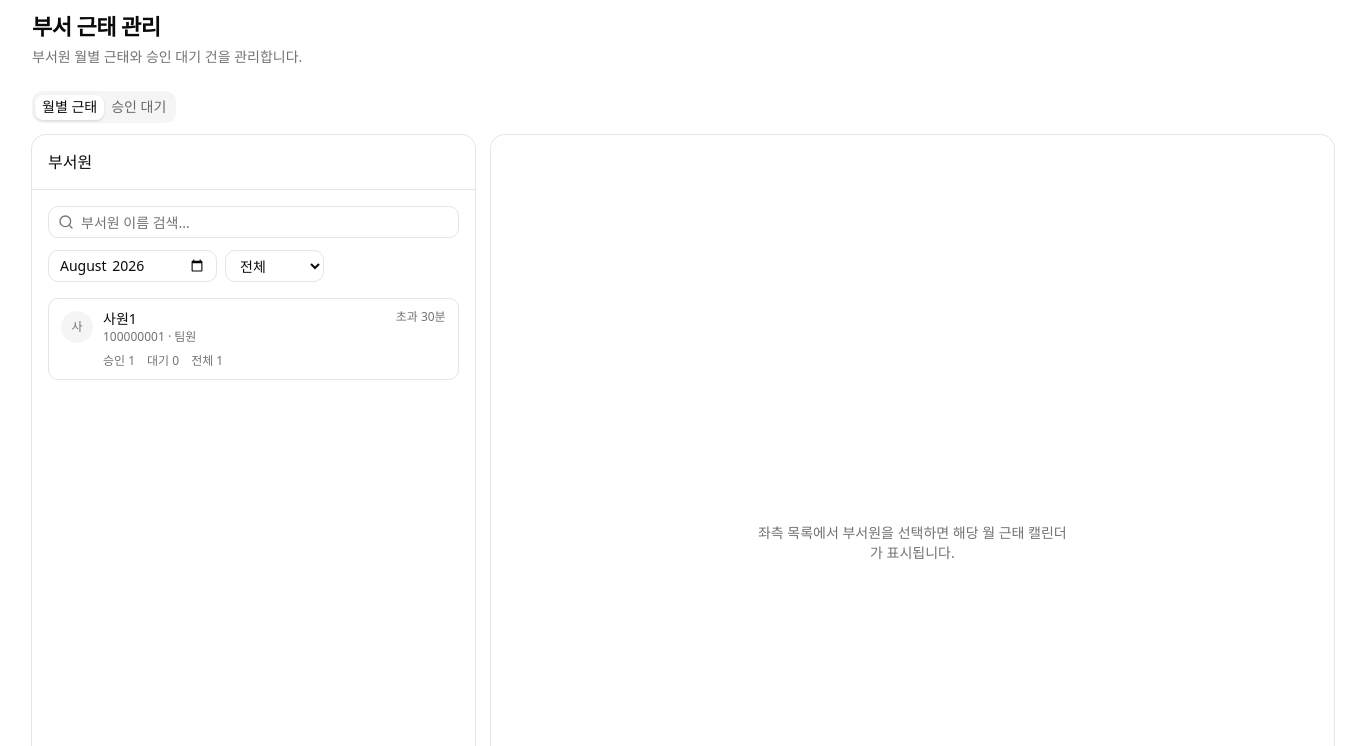
Test case: DeptAttendancePage (F305/F306) - 탭①/탭② 상태 분리(usePageState 별도 인스턴스) › 탭①에서 검색어/페이지를 변경한 뒤 탭②로 전환했다 돌아와도 탭①의 검색어 입력값과 조회 페이지가 유지된다
Check: the text "사원1" is shown, box [103,309,137,328]
Type "홍길동" into the search field labelled "부서원 이름 검색" at (253, 222), box [48,206,459,238]
(page scrolled)
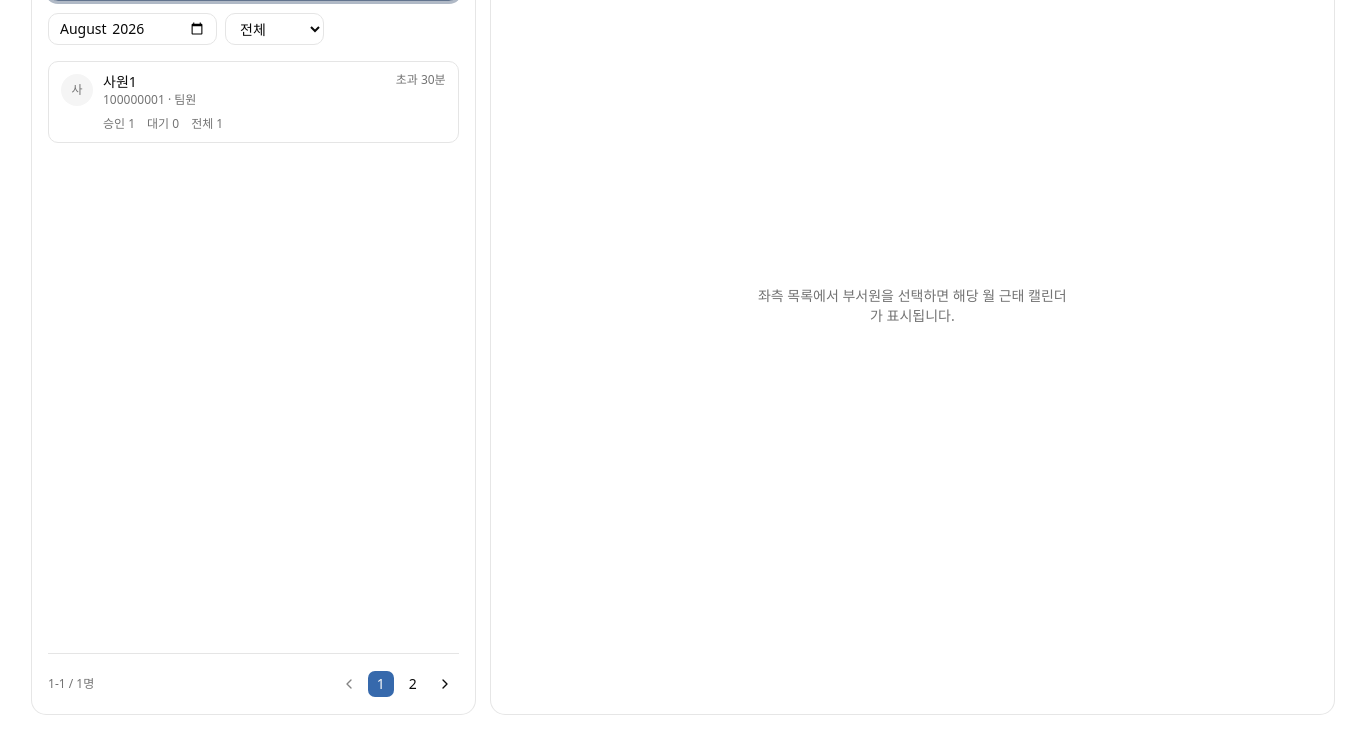
Click the button named "다음 페이지" at (445, 684), box [431,670,459,698]
(page scrolled)
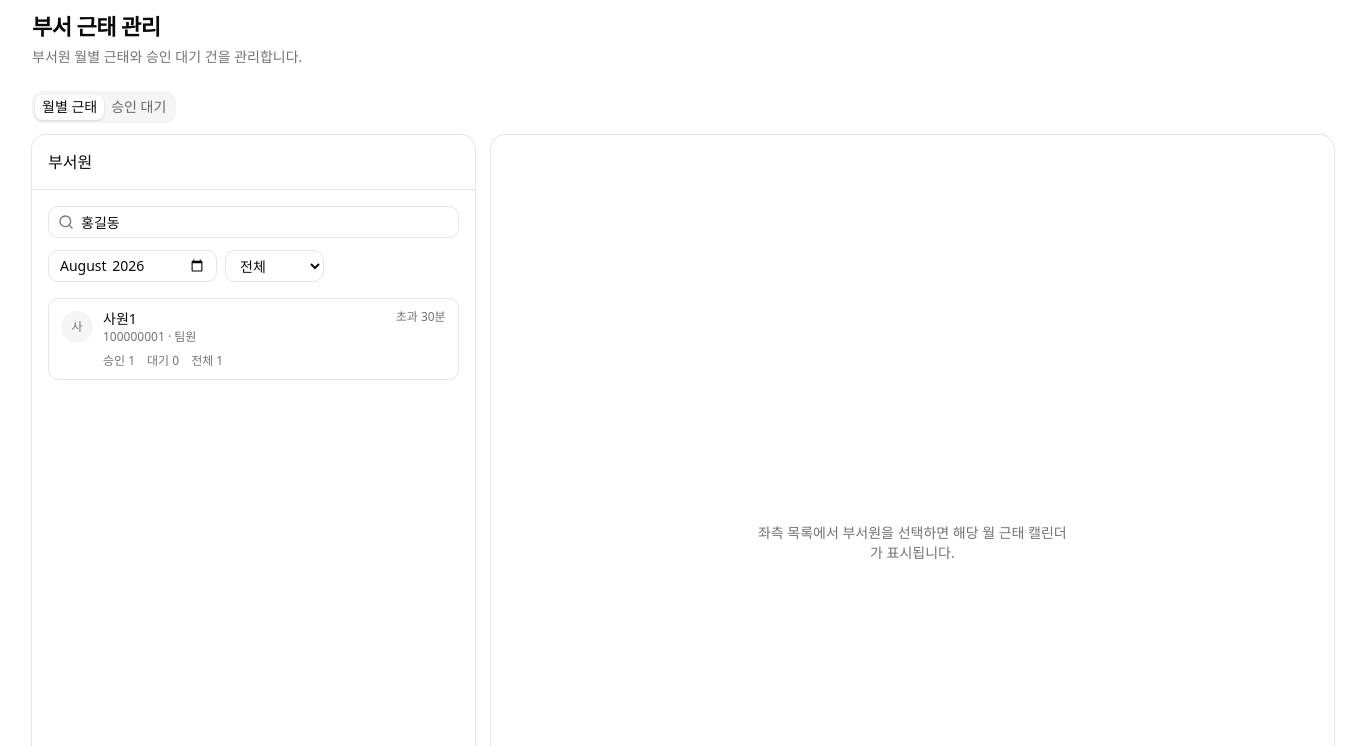
Click the tab "승인 대기" at (139, 107), box [104,94,173,120]
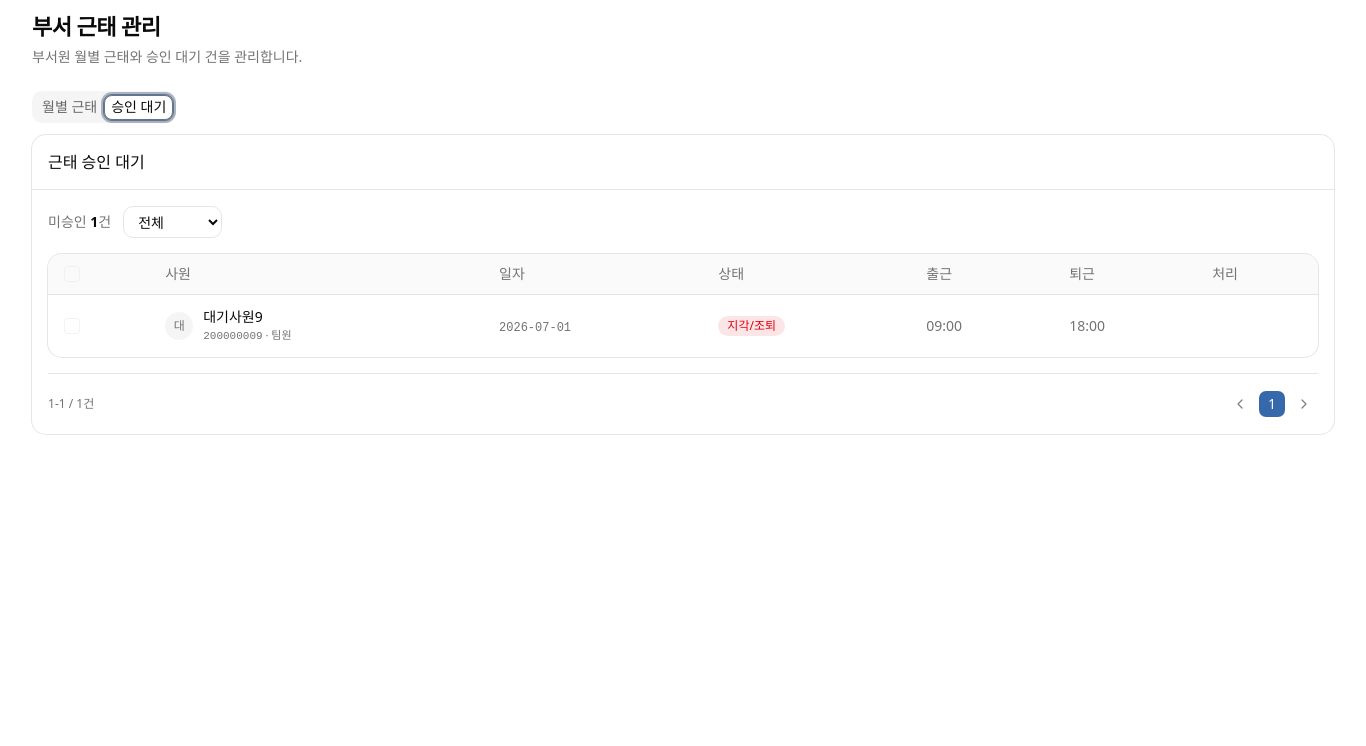
Check: the text "대기사원9" is shown, box [203,307,263,326]
Click the tab "월별 근태" at (70, 107), box [35,94,104,120]
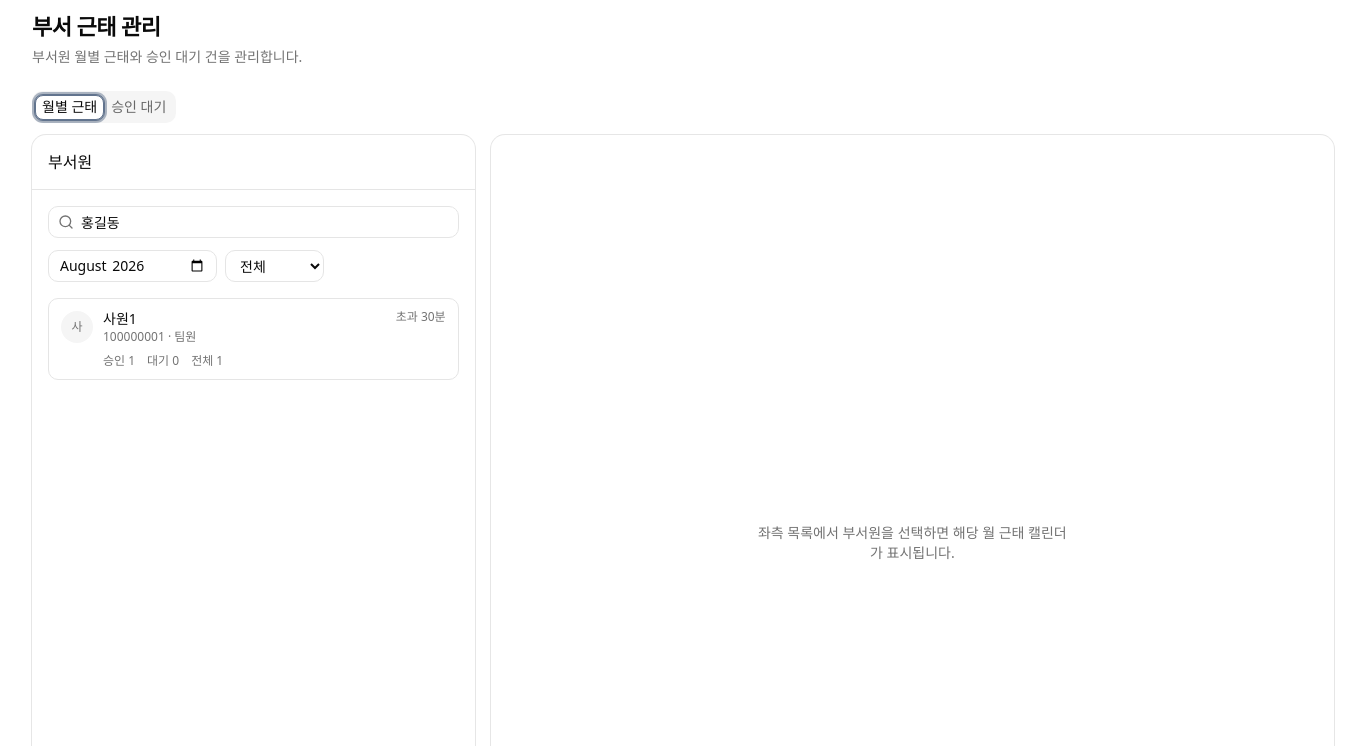
Check: the search field named "부서원 이름 검색" holds "홍길동", box [48,206,459,238]
